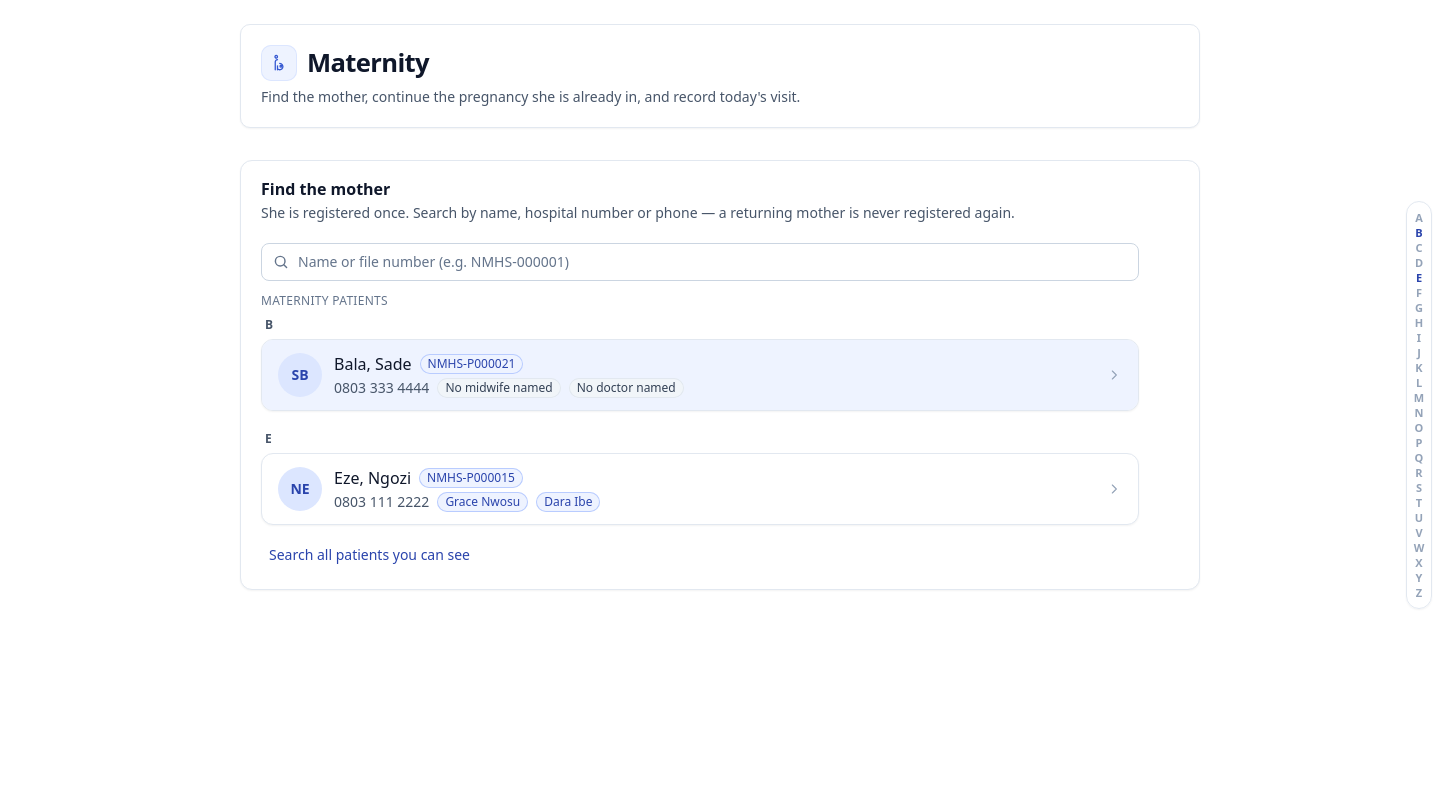
Test: the assignment panel › shows the department and both responsibilities as three separate things
This screenshot has width=1440, height=810.
Click the dropdown named "Search maternity patients" at (700, 262), box [261, 243, 1139, 281]
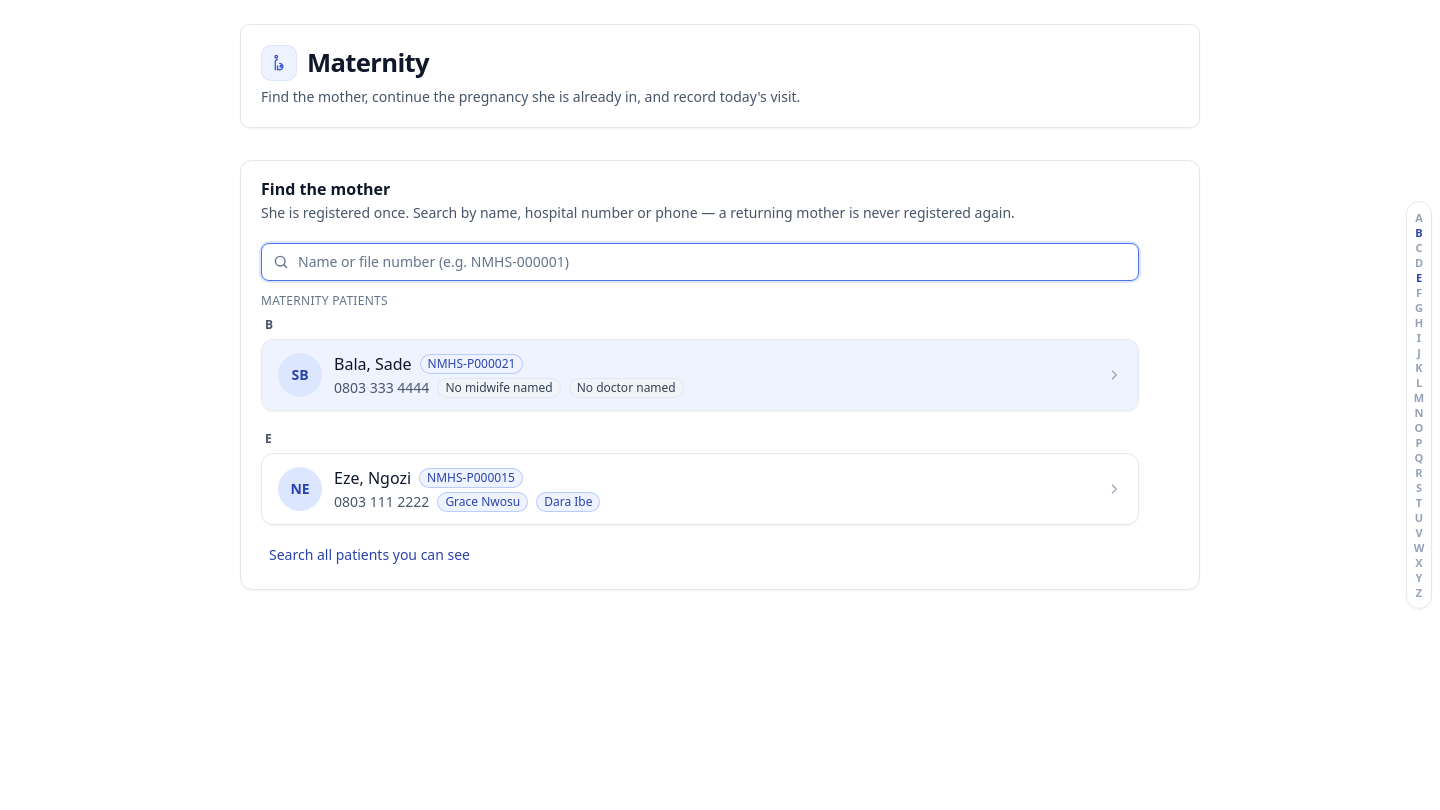
Click the option "Eze, Ngozi" at (300, 489), box [262, 454, 1138, 524]
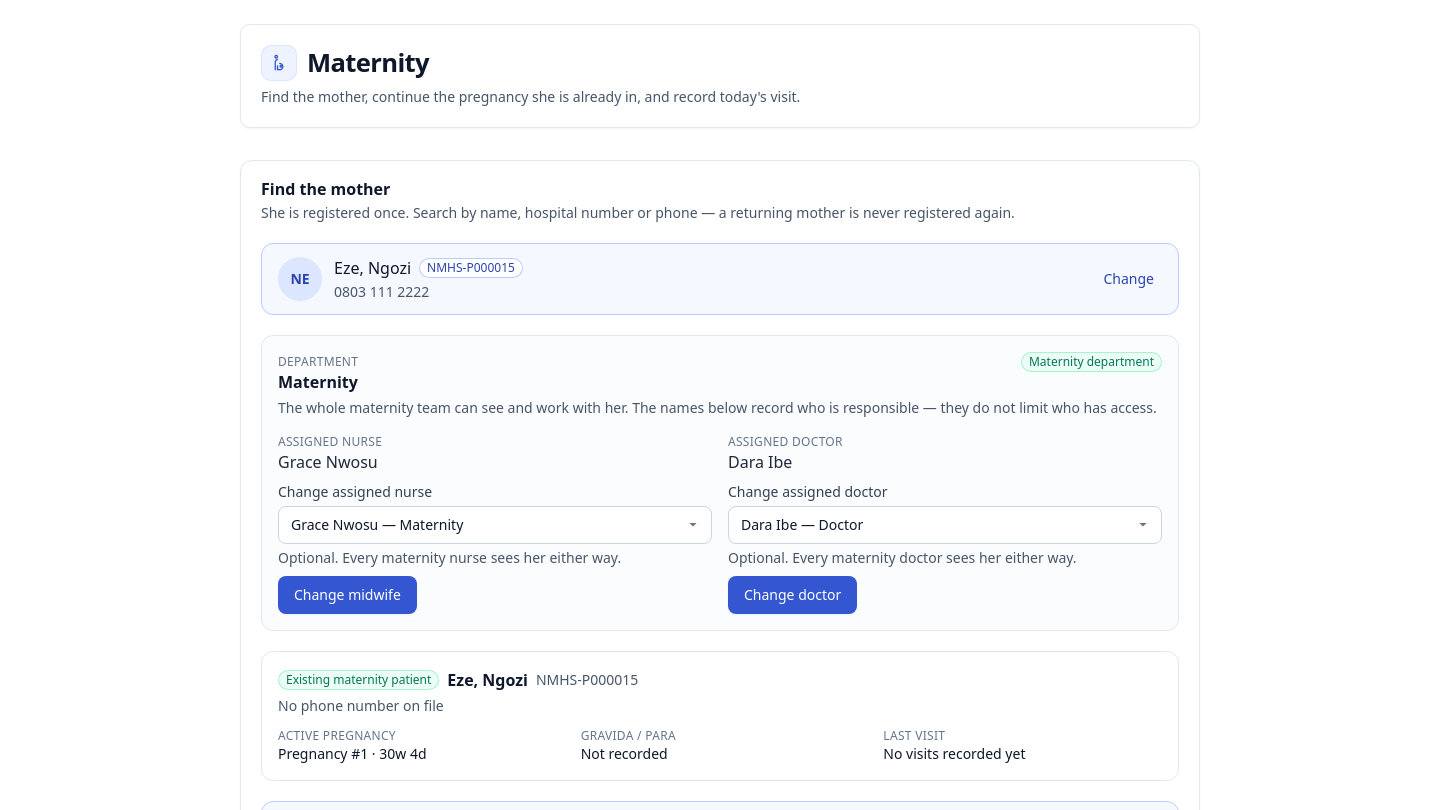
expect the text "Department" is shown: met, box [278, 354, 358, 370]
expect the text "Maternity department" is shown: met, box [1021, 352, 1162, 372]
expect the text "Assigned Nurse" is shown: met, box [278, 433, 382, 450]
